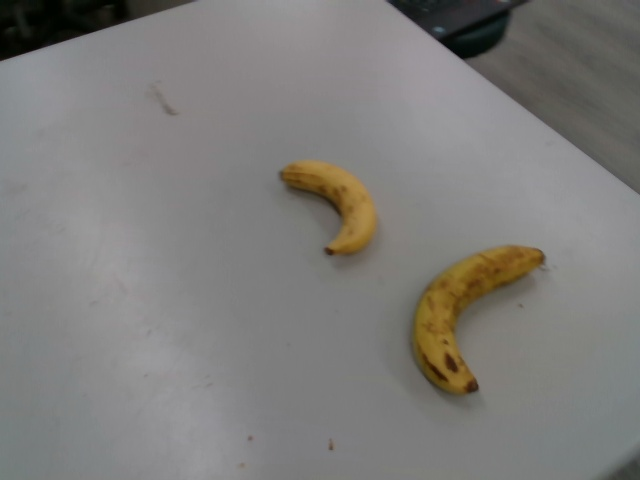banana: (409, 244, 545, 396), (277, 158, 381, 260)
